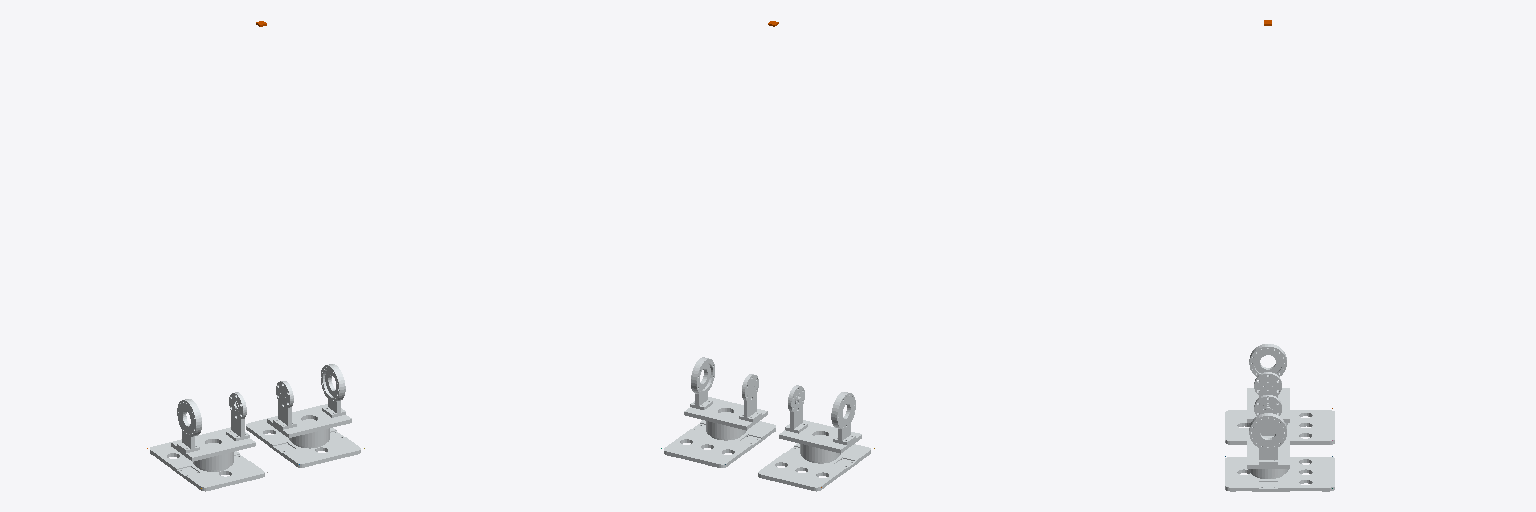
--- Render facts (derived) ---
Views: 3 orthographic renders of the robot side by side, from view 1: azimuth 30°, elevation 25°; view 2: azimuth 150°, elevation 25°; view 3: azimuth 270°, elevation 25°.
Robot: bipedv5_4c — 22 links, 21 joints (8 revolute, 4 prismatic, 9 fixed); root link base_link; default pose: all joints at 0.
Visible links, largest first — view 1: left_ankle_Link, right_ankle_Link; view 2: left_ankle_Link, right_ankle_Link; view 3: right_ankle_Link, left_ankle_Link.
Link boxes in pixels (x1=…): left_ankle_Link: x1=150, y1=392, x2=264, y2=491; right_ankle_Link: x1=246, y1=364, x2=360, y2=467; left_ankle_Link: x1=758, y1=385, x2=870, y2=491; right_ankle_Link: x1=664, y1=357, x2=775, y2=467; right_ankle_Link: x1=1225, y1=395, x2=1334, y2=491; left_ankle_Link: x1=1225, y1=344, x2=1334, y2=444.
Bounding box of the posed robot: 0.35 × 0.206 × 0.8829 m (x, y, z).
Meshes: 13 distinct files referenced, 2 mesh visuals loaded (2 binary STL); not drawn: 11 (reference not matched to a file when rendering).

The robot description file, URDF, robot "bipedv5_4c":
<?xml version="1.0" encoding="utf-8"?>

<robot name="bipedv5_4c" xmlns:xacro="http://www.ros.org/wiki/xacro">


  <link
    name="base_link">
    <inertial>
      <origin
        xyz="2.1238E-08 2.3955E-08 -0.088578"
        rpy="0 0 0" />
      <mass
        value="6.04" />
      <inertia
        ixx="0.011504"
        ixy="1.2206E-11"
        ixz="4.4303E-12"
        iyy="0.026033"
        iyz="-8.6187E-14"
        izz="0.028285" />
    </inertial>
    <visual>
      <!-- <origin rpy="0 0 0" xyz="0.0 0.0 -0.08"/>
        <geometry>
            <box size="0.35 0.15 0.15"/>
        </geometry> -->
      <origin
        xyz="0 0 0"
        rpy="0 0 0" />
      <geometry>
        <mesh
          filename="package://legged_bipedv5_description/meshes/base_link.STL" />
      </geometry>
      <material
        name="">
        <color
          rgba="0.89804 0.91765 0.92941 1" />
      </material>
    </visual>
    <collision>
     <origin rpy="0 0 0" xyz="0.0 0.0 -0.08"/>
      <geometry>
          <box size="0.35 0.15 0.15"/>
      </geometry>
    </collision>
  </link>
  <link
    name="left_yaw_Link">
    <inertial>
      <origin
        xyz="-0.0022679 -6.4337E-09 -0.043526"
        rpy="0 0 0" />
      <mass
        value="1.2202" />
      <inertia
        ixx="0.0010452"
        ixy="-7.8902E-18"
        ixz="3.289E-05"
        iyy="0.0011182"
        iyz="-2.6039E-18"
        izz="0.0010959" />
    </inertial>
    <visual>
      <origin
        xyz="0 0 0"
        rpy="0 0 0" />
      <geometry>
        <mesh
          filename="package://legged_bipedv5_description/meshes/left_yaw_Link.STL" />
      </geometry>
      <material
        name="">
        <color
          rgba="0.89804 0.91765 0.92941 1" />
      </material>
      <!-- <origin rpy="0 0 0" xyz="0 0 -0.007"/>
      <geometry>
          <box size="0.1 0.08 0.03"/>
      </geometry> -->
    </visual>
    <collision>
       <origin rpy="0 0 0" xyz="0 0 -0.007"/>
      <geometry>
          <box size="0.1 0.08 0.03"/>
      </geometry>
    </collision>
  </link>
  <joint
    name="ly"
    type="revolute">
    <origin
      xyz="-0.10249983089623 0 -0.161999985662556"
      rpy="0 0 0" />
    <parent
      link="base_link" />
    <child
      link="left_yaw_Link" />
    <axis
      xyz="0 0 1" />
    <limit
      lower="-10"
      upper="10"
      effort="100"
      velocity="100" />
  </joint>
  <link
    name="left_hip_Link">
    <inertial>
      <origin
        xyz="0.055101 -0.022328 -0.14329"
        rpy="0 0 0" />
      <mass
        value="1.9263" />
      <inertia
        ixx="0.0027475"
        ixy="1.6208E-11"
        ixz="-2.5502E-05"
        iyy="0.0033682"
        iyz="8.3025E-07"
        izz="0.0013004" />
    </inertial>
    <visual>
       <!-- <origin rpy="0 0 0" xyz="0.055 0 -0.076"/>
        <geometry>
            <box size="0.12 0.06 0.206"/>
        </geometry> -->
      <origin
        xyz="0 0 0"
        rpy="0 0 0" />
      <geometry>
        <mesh
          filename="package://legged_bipedv5_description/meshes/left_hip_Link.STL" />
      </geometry>
      <material
        name="">
        <color
          rgba="0.89804 0.91765 0.92941 1" />
      </material>
    </visual>
    <collision>
      <origin rpy="0 0 0" xyz="0.055 0 -0.076"/>
        <geometry>
            <box size="0.12 0.06 0.206"/>
        </geometry>
    </collision>
  </link>
  <joint
    name="lh"
    type="revolute">
    <origin
      xyz="-0.0565000055020701 0 -0.0539999662335701"
      rpy="0 0 0" />
    <parent
      link="left_yaw_Link" />
    <child
      link="left_hip_Link" />
    <axis
      xyz="-1 0 0" />
    <limit
      lower="-10"
      upper="10"
      effort="100"
      velocity="100" />
  </joint>
  <link
    name="left_knee_pri_Link">
    <inertial>
      <origin
        xyz="-0.003862 2.3753E-10 -0.070547"
        rpy="0 0 0" />
      <mass
        value="1.7288" />
      <inertia
        ixx="0.0013015"
        ixy="9.6218E-19"
        ixz="4.5849E-05"
        iyy="0.0013518"
        iyz="-1.1668E-18"
        izz="0.0012686" />
    </inertial>
    <visual>
      <origin
        xyz="0 0 0"
        rpy="0 0 0" />
      <geometry>
        <mesh
          filename="package://legged_bipedv5_description/meshes/left_knee_pri_Link.STL" />
      </geometry>
      <material
        name="">
        <color
          rgba="0.89804 0.91765 0.92941 1" />
      </material>
        <!-- <origin rpy="0 0 0" xyz="0.0 0 -0.01"/>
        <geometry>
            <box size="0.14 0.06 0.04"/>
        </geometry> -->
    </visual>
    <collision>
      <origin rpy="0 0 0" xyz="0.0 0 -0.01"/>
        <geometry>
            <box size="0.14 0.06 0.04"/>
        </geometry>
    </collision>
  </link>
  <joint
    name="lkp"
    type="prismatic">
    <origin
      xyz="0.0564999588174406 0 -0.192000034377183"
      rpy="0 0 0" />
    <parent
      link="left_hip_Link" />
    <child
      link="left_knee_pri_Link" />
    <axis
      xyz="1 0 0" />
    <limit
      lower="-0.15"
      upper="0.15"
      effort="100"
      velocity="100" />
  </joint>
  <link
    name="left_knee_Link">
    <inertial>
      <origin
        xyz="0.055101 -0.022328 -0.14329"
        rpy="0 0 0" />
      <mass
        value="1.9263" />
      <inertia
        ixx="0.0027475"
        ixy="1.6208E-11"
        ixz="-2.5502E-05"
        iyy="0.0033682"
        iyz="8.3025E-07"
        izz="0.0013004" />
    </inertial>
    <visual>
      <origin
        xyz="0 0 0"
        rpy="0 0 0" />
      <geometry>
        <mesh
          filename="package://legged_bipedv5_description/meshes/left_knee_Link.STL" />
      </geometry>
      <material
        name="">
        <color
          rgba="0.89804 0.91765 0.92941 1" />
      </material>
      <!-- <origin rpy="0 0 0" xyz="0.055 0 -0.065"/>
        <geometry>
            <box size="0.12 0.06 0.23"/>
        </geometry> -->
    </visual>
    <collision>
      <origin rpy="0 0 0" xyz="0.055 0 -0.065"/>
        <geometry>
            <box size="0.12 0.06 0.23"/>
        </geometry>
    </collision>
  </link>
  <joint
    name="lk"
    type="revolute">
    <origin
      xyz="-0.0564999588174406 0 -0.082999965622817"
      rpy="0 0 0" />
    <parent
      link="left_knee_pri_Link" />
    <child
      link="left_knee_Link" />
    <axis
      xyz="1 0 0" />
    <limit
      lower="-10"
      upper="10"
      effort="100"
      velocity="100" />
  </joint>
  <link
    name="left_ankle_pri_Link">
    <inertial>
      <origin
        xyz="-0.003862 2.3753E-10 -0.070547"
        rpy="0 0 0" />
      <mass
        value="1.7288" />
      <inertia
        ixx="0.0013015"
        ixy="-5.5659E-19"
        ixz="4.5849E-05"
        iyy="0.0013518"
        iyz="1.5099E-18"
        izz="0.0012686" />
    </inertial>
    <visual>
      <origin
        xyz="0 0 0"
        rpy="0 0 0" />
      <geometry>
        <mesh
          filename="package://legged_bipedv5_description/meshes/left_ankle_pri_Link.STL" />
      </geometry>
      <material
        name="">
        <color
          rgba="0.89804 0.91765 0.92941 1" />
      </material>
        <!-- <origin rpy="0 0 0" xyz="0.0 0 -0.06"/>
        <geometry>
            <box size="0.14 0.06 0.14"/>
        </geometry> -->
    </visual>
    <collision>
      <origin rpy="0 0 0" xyz="0.0 0 -0.06"/>
        <geometry>
            <box size="0.14 0.06 0.14"/>
        </geometry>
    </collision>
  </link>
  <joint
    name="lap"
    type="prismatic">
    <origin
      xyz="0.0564999588174406 0 -0.192000034377183"
      rpy="0 0 0" />
    <parent
      link="left_knee_Link" />
    <child
      link="left_ankle_pri_Link" />
    <axis
      xyz="1 0 0" />
    <limit
      lower="-0.15"
      upper="0.15"
      effort="100"
      velocity="100" />
  </joint>
  <link
    name="left_ankle_Link">
    <inertial>
      <origin
        xyz="0.054123 0.015256 -0.051677"
        rpy="0 0 0" />
      <mass
        value="0.72668" />
      <inertia
        ixx="0.0020048"
        ixy="-2.246E-18"
        ixz="-7.9275E-07"
        iyy="0.00089396"
        iyz="-9.1373E-07"
        izz="0.0027066" />
    </inertial>
    <visual>
      <origin
        xyz="0 0 0"
        rpy="0 0 0" />
      <geometry>
        <mesh
          filename="package://legged_bipedv5_description/meshes/left_ankle_Link.STL" />
      </geometry>
      <material
        name="">
        <color
          rgba="0.89804 0.91765 0.92941 1" />
      </material>
      <!-- <origin rpy="0 0 0" xyz="0.055 0.02 -0.106"/>
        <geometry>
            <box size="0.14 0.22 0.01"/>
        </geometry> -->
    </visual>
    <collision>
     <origin rpy="0 0 0" xyz="0.055 0.02 -0.106"/>
        <geometry>
            <box size="0.14 0.22 0.01"/>
        </geometry>
    </collision>
  </link>
  <joint
    name="la"
    type="revolute">
    <origin
      xyz="-0.0565000033098504 0 -0.0830000104027589"
      rpy="0 0 0" />
    <parent
      link="left_ankle_pri_Link" />
    <child
      link="left_ankle_Link" />
    <axis
      xyz="1 0 0" />
    <limit
      lower="-10"
      upper="10"
      effort="100"
      velocity="100" />
  </joint>

  <link
    name="right_yaw_Link">
    <inertial>
      <origin
        xyz="0.0022679 -6.4337E-09 -0.043526"
        rpy="0 0 0" />
      <mass
        value="1.2202" />
      <inertia
        ixx="0.0010452"
        ixy="-2.0231E-18"
        ixz="-3.289E-05"
        iyy="0.0011182"
        iyz="6.9424E-19"
        izz="0.0010959" />
    </inertial>
    <visual>
     <!-- <origin rpy="0 0 0" xyz="0 0 -0.007"/>
      <geometry>
          <box size="0.1 0.08 0.03"/>
      </geometry> -->
      <origin
        xyz="0 0 0"
        rpy="0 0 0" />
      <geometry>
        <mesh
          filename="package://legged_bipedv5_description/meshes/right_yaw_Link.STL" />
      </geometry>
      <material
        name="">
        <color
          rgba="0.89804 0.91765 0.92941 1" />
      </material>
    </visual>
    <collision>
     <origin rpy="0 0 0" xyz="0 0 -0.007"/>
      <geometry>
          <box size="0.1 0.08 0.03"/>
      </geometry>
    </collision>
  </link>
  <joint
    name="ry"
    type="revolute">
    <origin
      xyz="0.10249993812728 0 -0.161999985662556"
      rpy="0 0 0" />
    <parent
      link="base_link" />
    <child
      link="right_yaw_Link" />
    <axis
      xyz="0 0 -1" />
    <limit
      lower="-10"
      upper="10"
      effort="100"
      velocity="100" />
  </joint>
  <link
    name="right_hip_Link">
    <inertial>
      <origin
        xyz="-0.055101 -0.022328 -0.14329"
        rpy="0 0 0" />
      <mass
        value="1.9263" />
      <inertia
        ixx="0.0027475"
        ixy="1.9779E-11"
        ixz="2.5502E-05"
        iyy="0.0033682"
        iyz="8.3026E-07"
        izz="0.0013004" />
    </inertial>
    <visual>
      <origin
        xyz="0 0 0"
        rpy="0 0 0" />
      <geometry>
        <mesh
          filename="package://legged_bipedv5_description/meshes/right_hip_Link.STL" />
      </geometry>
      <material
        name="">
        <color
          rgba="0.89804 0.91765 0.92941 1" />
      </material>
      <!-- <origin rpy="0 0 0" xyz="-0.055 0 -0.078"/>
        <geometry>
            <box size="0.12 0.06 0.21"/>
        </geometry> -->
    </visual>
    <collision>
      <origin rpy="0 0 0" xyz="-0.055 0 -0.078"/>
        <geometry>
            <box size="0.12 0.06 0.21"/>
        </geometry>
    </collision>
  </link>
  <joint
    name="rh"
    type="revolute">
    <origin
      xyz="0.0565000055020701 0 -0.0539999662335701"
      rpy="0 0 0" />
    <parent
      link="right_yaw_Link" />
    <child
      link="right_hip_Link" />
    <axis
      xyz="-1 0 0" />
    <limit
      lower="-10"
      upper="10"
      effort="100"
      velocity="100" />
  </joint>
  <link
    name="right_knee_pri_Link">
    <inertial>
      <origin
        xyz="0.003862 2.3753E-10 -0.070547"
        rpy="0 0 0" />
      <mass
        value="1.7288" />
      <inertia
        ixx="0.0013015"
        ixy="6.3708E-19"
        ixz="-4.5849E-05"
        iyy="0.0013518"
        iyz="2.0769E-18"
        izz="0.0012686" />
    </inertial>
    <visual>
      <origin
        xyz="0 0 0"
        rpy="0 0 0" />
      <geometry>
        <mesh
          filename="package://legged_bipedv5_description/meshes/right_knee_pri_Link.STL" />
      </geometry>
      <material
        name="">
        <color
          rgba="0.89804 0.91765 0.92941 1" />
      </material>
      <!-- <origin rpy="0 0 0" xyz="0.0 0 -0.043"/>
        <geometry>
            <box size="0.14 0.06 0.1"/>
        </geometry> -->
    </visual>
    <collision>
     <origin rpy="0 0 0" xyz="0.0 0 -0.043"/>
        <geometry>
            <box size="0.14 0.06 0.1"/>
        </geometry>
    </collision>
  </link>
  <joint
    name="rkp"
    type="prismatic">
    <origin
      xyz="-0.0565 0 -0.192"
      rpy="0 0 0" />
    <parent
      link="right_hip_Link" />
    <child
      link="right_knee_pri_Link" />
    <axis
      xyz="1 0 0" />
    <limit
      lower="-0.1"
      upper="0.1"
      effort="100"
      velocity="100" />
  </joint>
  <link
    name="right_knee_Link">
    <inertial>
      <origin
        xyz="-0.055101 -0.022328 -0.14329"
        rpy="0 0 0" />
      <mass
        value="1.9263" />
      <inertia
        ixx="0.0027475"
        ixy="1.9779E-11"
        ixz="2.5502E-05"
        iyy="0.0033682"
        iyz="8.3026E-07"
        izz="0.0013004" />
    </inertial>
    <visual>
      <origin
        xyz="0 0 0"
        rpy="0 0 0" />
      <geometry>
        <mesh
          filename="package://legged_bipedv5_description/meshes/right_knee_Link.STL" />
      </geometry>
      <material
        name="">
        <color
          rgba="0.89804 0.91765 0.92941 1" />
      </material>
       <!-- <origin rpy="0 0 0" xyz="-0.055 0 -0.097"/>
        <geometry>
            <box size="0.12 0.06 0.17"/>
        </geometry> -->
    </visual>
    <collision>
      <origin rpy="0 0 0" xyz="-0.055 0 -0.097"/>
        <geometry>
            <box size="0.12 0.06 0.17"/>
        </geometry>
    </collision>
  </link>
  <joint
    name="rk"
    type="revolute">
    <origin
      xyz="0.0564999588174397 0 -0.0829999656228171"
      rpy="0 0 0" />
    <parent
      link="right_knee_pri_Link" />
    <child
      link="right_knee_Link" />
    <axis
      xyz="1 0 0" />
    <limit
      lower="-10"
      upper="10"
      effort="100"
      velocity="100" />
  </joint>
  <link
    name="right_ankle_pri_Link">
    <inertial>
      <origin
        xyz="0.003862 2.3753E-10 -0.070547"
        rpy="0 0 0" />
      <mass
        value="1.7288" />
      <inertia
        ixx="0.0013015"
        ixy="5.2116E-19"
        ixz="-4.5849E-05"
        iyy="0.0013518"
        iyz="2.0394E-18"
        izz="0.0012686" />
    </inertial>
    <visual>
      <origin
        xyz="0 0 0"
        rpy="0 0 0" />
      <geometry>
        <mesh
          filename="package://legged_bipedv5_description/meshes/right_ankle_pri_Link.STL" />
      </geometry>
      <material
        name="">
        <color
          rgba="0.89804 0.91765 0.92941 1" />
      </material>
       <!-- <origin rpy="0 0 0" xyz="0.0 0 -0.06"/>
        <geometry>
            <box size="0.14 0.06 0.14"/>
        </geometry> -->
    </visual>
    <collision>
     <origin rpy="0 0 0" xyz="0.0 0 -0.06"/>
        <geometry>
            <box size="0.14 0.06 0.14"/>
        </geometry>
    </collision>
  </link>
  <joint
    name="rap"
    type="prismatic">
    <origin
      xyz="-0.0564999588174397 0 -0.192000034377183"
      rpy="0 0 0" />
    <parent
      link="right_knee_Link" />
    <child
      link="right_ankle_pri_Link" />
    <axis
      xyz="1 0 0" />
    <limit
      lower="-0.1"
      upper="0.1"
      effort="100"
      velocity="100" />
  </joint>
  <link
    name="right_ankle_Link">
    <inertial>
      <origin
        xyz="-0.054123 0.015256 -0.051677"
        rpy="0 0 0" />
      <mass
        value="0.72668" />
      <inertia
        ixx="0.0020048"
        ixy="1.7327E-17"
        ixz="7.9275E-07"
        iyy="0.00089396"
        iyz="-9.1373E-07"
        izz="0.0027066" />
    </inertial>
    <visual>
       <!-- <origin rpy="0 0 0" xyz="-0.055 0.02 -0.106"/>
        <geometry>
            <box size="0.14 0.22 0.01"/>
        </geometry> -->
      <origin
        xyz="0 0 0"
        rpy="0 0 0" />
      <geometry>
        <mesh
          filename="package://legged_bipedv5_description/meshes/right_ankle_Link.STL" />
      </geometry>
      <material
        name="">
        <color
          rgba="0.89804 0.91765 0.92941 1" />
      </material>
    </visual>
    <collision>
      <origin rpy="0 0 0" xyz="-0.055 0.02 -0.106"/>
        <geometry>
            <box size="0.14 0.22 0.01"/>
        </geometry>
    </collision>
  </link>
  <joint
    name="ra"
    type="revolute">
    <origin
      xyz="0.0565000033098499 0 -0.083000010402759"
      rpy="0 0 0" />
    <parent
      link="right_ankle_pri_Link" />
    <child
      link="right_ankle_Link" />
    <axis
      xyz="1 0 0" />
    <limit
      lower="-10"
      upper="10"
      effort="100"
      velocity="100" />
  </joint>

  
  <joint name="la_fixed_1" type="fixed">
    <origin xyz="-0.015 0.12 -0.106" rpy="0 0 0" />  
    <parent link="left_ankle_Link" />
    <child link="left_LF_Link" />
  </joint>
  <link name="left_LF_Link">
    <inertial>
      <mass value="0.01" />
      <inertia ixx="0.000001" ixy="0" ixz="0" iyy="0.000001" iyz="0" izz="0.000001" />
    </inertial>
    <visual>
      <origin rpy="0 0 0" xyz="0 0 0"/>
      <geometry>
        <sphere radius="0.001"/>
      </geometry>
    </visual>
    <collision>
      <origin rpy="0 0 0" xyz="0 0 0"/>
      <geometry>
        <sphere radius="0.001"/>
      </geometry>
    </collision>
  </link>

    <joint name="la_fixed_2" type="fixed">
    <origin xyz="0.125 0.12 -0.106" rpy="0 0 0" />
    <parent link="left_ankle_Link" />
    <child link="left_RF_Link" />
  </joint>
  <link name="left_RF_Link">
    <inertial>
      <mass value="0.01" />
      <inertia ixx="0.000001" ixy="0" ixz="0" iyy="0.000001" iyz="0" izz="0.000001" />
    </inertial>
    <visual>
      <origin rpy="0 0 0" xyz="0 0 0"/>
      <geometry>
        <sphere radius="0.001"/>
      </geometry>
    </visual>
    <collision>
      <origin rpy="0 0 0" xyz="0 0 0"/>
      <geometry>
        <sphere radius="0.001"/>
      </geometry>
    </collision>
  </link>

   <joint name="la_fixed_3" type="fixed">
    <origin xyz="0.125 -0.08 -0.106" rpy="0 0 0" />
    <parent link="left_ankle_Link" />
    <child link="left_RB_Link" />
  </joint>
  <link name="left_RB_Link">
    <inertial>
      <mass value="0.01" />
      <inertia ixx="0.000001" ixy="0" ixz="0" iyy="0.000001" iyz="0" izz="0.000001" />
    </inertial>
    <visual>
      <origin rpy="0 0 0" xyz="0 0 0"/>
      <geometry>
        <sphere radius="0.001"/>
      </geometry>
    </visual>
    <collision>
      <origin rpy="0 0 0" xyz="0 0 0"/>
      <geometry>
        <sphere radius="0.001"/>
      </geometry>
    </collision>
  </link>

  <joint name="la_fixed_4" type="fixed">
    <origin xyz="-0.015 -0.08 -0.106" rpy="0 0 0" />
    <parent link="left_ankle_Link" />
    <child link="left_LB_Link" />
  </joint>
  <link name="left_LB_Link">
    <inertial>
      <mass value="0.01" />
      <inertia ixx="0.000001" ixy="0" ixz="0" iyy="0.000001" iyz="0" izz="0.000001" />
    </inertial>
    <visual>
      <origin rpy="0 0 0" xyz="0 0 0"/>
      <geometry>
        <sphere radius="0.001"/>
      </geometry>
    </visual>
    <collision>
      <origin rpy="0 0 0" xyz="0 0 0"/>
      <geometry>
        <sphere radius="0.001"/>
      </geometry>
    </collision>
  </link>


    <joint name="ra_fixed_1" type="fixed">
    <origin xyz="-0.125 0.12 -0.106" rpy="0 0 0" />
    <parent link="right_ankle_Link" />
    <child link="right_LF_Link" />
  </joint>
  <link name="right_LF_Link">
    <inertial>
      <mass value="0.01" />
      <inertia ixx="0.000001" ixy="0" ixz="0" iyy="0.000001" iyz="0" izz="0.000001" />
    </inertial>
    <visual>
      <origin rpy="0 0 0" xyz="0 0 0"/>
      <geometry>
        <sphere radius="0.001"/>
      </geometry>
    </visual>
    <collision>
      <origin rpy="0 0 0" xyz="0 0 0"/>
      <geometry>
        <sphere radius="0.001"/>
      </geometry>
    </collision>
  </link>

    <joint name="ra_fixed_2" type="fixed">
    <origin xyz="0.015 0.12 -0.106" rpy="0 0 0" />
    <parent link="right_ankle_Link" />
    <child link="right_RF_Link" />
  </joint>
  <link name="right_RF_Link">
    <inertial>
      <mass value="0.01" />
      <inertia ixx="0.000001" ixy="0" ixz="0" iyy="0.000001" iyz="0" izz="0.000001" />
    </inertial>
    <visual>
      <origin rpy="0 0 0" xyz="0 0 0"/>
      <geometry>
        <sphere radius="0.001"/>
      </geometry>
    </visual>
    <collision>
      <origin rpy="0 0 0" xyz="0 0 0"/>
      <geometry>
        <sphere radius="0.001"/>
      </geometry>
    </collision>
  </link>

 <joint name="ra_fixed_3" type="fixed">
    <origin xyz="0.015 -0.08 -0.106" rpy="0 0 0" />
    <parent link="right_ankle_Link" />
    <child link="right_RB_Link" />
  </joint>
  <link name="right_RB_Link">
    <inertial>
      <mass value="0.01" />
      <inertia ixx="0.000001" ixy="0" ixz="0" iyy="0.000001" iyz="0" izz="0.000001" />
    </inertial>
    <visual>
      <origin rpy="0 0 0" xyz="0 0 0"/>
      <geometry>
        <sphere radius="0.001"/>
      </geometry>
    </visual>
    <collision>
      <origin rpy="0 0 0" xyz="0 0 0"/>
      <geometry>
        <sphere radius="0.001"/>
      </geometry>
    </collision>
  </link>

 <joint name="ra_fixed_4" type="fixed">
    <origin xyz="-0.125 -0.08 -0.106" rpy="0 0 0" />
    <parent link="right_ankle_Link" />
    <child link="right_LB_Link" />
  </joint>
  <link name="right_LB_Link">
    <inertial>
      <mass value="0.01" />
      <inertia ixx="0.000001" ixy="0" ixz="0" iyy="0.000001" iyz="0" izz="0.000001" />
    </inertial>
    <visual>
      <origin rpy="0 0 0" xyz="0 0 0"/>
      <geometry>
        <sphere radius="0.001"/>
      </geometry>
    </visual>
    <collision>
      <origin rpy="0 0 0" xyz="0 0 0"/>
      <geometry>
        <sphere radius="0.001"/>
      </geometry>
    </collision>
  </link>

  

    <gazebo>
     <plugin name="gazebo_ros_control" filename="liblegged_bipedal_hw_sim.so">
      <robotNamespace>/</robotNamespace>
      <robotParam>legged_robot_description</robotParam>
      <robotSimType>legged_gazebo/LeggedHWSim</robotSimType>
    </plugin>
  </gazebo>

  <gazebo>
    <plugin filename="libgazebo_ros_p3d.so" name="p3d_base_controller">
      <alwaysOn>true</alwaysOn>
      <updateRate>1000.0</updateRate>
      <bodyName>base_link</bodyName>
      <topicName>ground_truth/state</topicName>
      <gaussianNoise>0</gaussianNoise>
      <frameName>world</frameName>
      <xyzOffsets>0 0 0</xyzOffsets>
      <rpyOffsets>0 0 0</rpyOffsets>
    </plugin>
  </gazebo>
  
    <!-- Imu is fixed to the base link -->
  <joint name="imu_joint" type="fixed">
    <origin rpy="0. 0. 0." xyz="0. 0. 0"/>
    <parent link="base_link"/>
    <child link="imu_link"/>
  </joint>
  <!-- Imu link -->
  <link name="imu_link">
    <inertial>
      <mass value="0.01"/>
      <origin rpy="0 0 0" xyz="0 0 0"/>
      <inertia ixx="0.000001" ixy="0" ixz="0" iyy="0.000001" iyz="0" izz="0.000001"/>
    </inertial>
    <visual>
      <origin rpy="0 0 0" xyz="0 0 0"/>
      <geometry>
        <box size="0.015 0.015 0.004"/>
      </geometry>
    </visual>
    <material name="orange">
      <color rgba="255 108 10 255"/>
    </material>
  </link>

  <gazebo reference="imu_joint">
    <disableFixedJointLumping>true</disableFixedJointLumping>
  </gazebo>

    <gazebo reference="left_ankle_Link">
    <mu1>1.5</mu1>
    <mu2>1.5</mu2>
    <self_collide>0</self_collide>
    <kp value="1000000.0"/>
    <kd value="100.0"/>
    <maxVel>1.0</maxVel>
    <minDepth>0.00</minDepth>
  </gazebo>

  <gazebo reference="right_ankle_Link">
    <mu1>1.5</mu1>
    <mu2>1.5</mu2>
    <self_collide>0</self_collide>
    <kp value="1000000.0"/>
    <kd value="100.0"/>
    <maxVel>1.0</maxVel>
    <minDepth>0.00</minDepth>
  </gazebo>

   <gazebo reference="right_LF_Link">
    <mu1>1.5</mu1>
    <mu2>1.5</mu2>
    <self_collide>1</self_collide>
    <kp value="1000000.0"/>
    <kd value="100.0"/>
    <maxVel>1.0</maxVel>
    <minDepth>0.00</minDepth>
  </gazebo>

  <gazebo reference="right_RF_Link">
    <mu1>1.5</mu1>
    <mu2>1.5</mu2>
    <self_collide>1</self_collide>
    <kp value="1000000.0"/>
    <kd value="100.0"/>
    <maxVel>1.0</maxVel>
    <minDepth>0.00</minDepth>
  </gazebo>

   <gazebo reference="right_LB_Link">
    <mu1>1.5</mu1>
    <mu2>1.5</mu2>
    <self_collide>1</self_collide>
    <kp value="1000000.0"/>
    <kd value="100.0"/>
    <maxVel>1.0</maxVel>
    <minDepth>0.00</minDepth>
  </gazebo>

  <gazebo reference="right_RB_Link">
    <mu1>1.5</mu1>
    <mu2>1.5</mu2>
    <self_collide>1</self_collide>
    <kp value="1000000.0"/>
    <kd value="100.0"/>
    <maxVel>1.0</maxVel>
    <minDepth>0.00</minDepth>
  </gazebo>

   <gazebo reference="left_LF_Link">
    <mu1>1.5</mu1>
    <mu2>1.5</mu2>
    <self_collide>1</self_collide>
    <kp value="1000000.0"/>
    <kd value="100.0"/>
    <maxVel>1.0</maxVel>
    <minDepth>0.00</minDepth>
  </gazebo>

  <gazebo reference="left_RF_Link">
    <mu1>1.5</mu1>
    <mu2>1.5</mu2>
    <self_collide>1</self_collide>
    <kp value="1000000.0"/>
    <kd value="100.0"/>
    <maxVel>1.0</maxVel>
    <minDepth>0.00</minDepth>
  </gazebo>

  <gazebo reference="left_LB_Link">
    <mu1>1.5</mu1>
    <mu2>1.5</mu2>
    <self_collide>1</self_collide>
    <kp value="1000000.0"/>
    <kd value="100.0"/>
    <maxVel>1.0</maxVel>
    <minDepth>0.00</minDepth>
  </gazebo>

  <gazebo reference="left_RB_Link">
    <mu1>1.5</mu1>
    <mu2>1.5</mu2>
    <self_collide>1</self_collide>
    <kp value="1000000.0"/>
    <kd value="100.0"/>
    <maxVel>1.0</maxVel>
    <minDepth>0.00</minDepth>
  </gazebo>

  <transmission name="ly_tran">
      <type>transmission_interface/SimpleTransmission</type>
      <joint name="ly">
          <hardwareInterface>hardware_interface/EffortJointInterface</hardwareInterface>
      </joint>
      <actuator name="ly_joint_motor">
          <hardwareInterface>hardware_interface/EffortJointInterface</hardwareInterface>
          <mechanicalReduction>1</mechanicalReduction>
      </actuator>
  </transmission>

  <transmission name="lh_tran">
      <type>transmission_interface/SimpleTransmission</type>
      <joint name="lh">
          <hardwareInterface>hardware_interface/EffortJointInterface</hardwareInterface>
      </joint>
      <actuator name="lh_joint_motor">
          <hardwareInterface>hardware_interface/EffortJointInterface</hardwareInterface>
          <mechanicalReduction>1</mechanicalReduction>
      </actuator>
  </transmission>

  <transmission name="lkp_tran">
      <type>transmission_interface/SimpleTransmission</type>
      <joint name="lkp">
          <hardwareInterface>hardware_interface/EffortJointInterface</hardwareInterface>
      </joint>
      <actuator name="lkp_joint_motor">
          <hardwareInterface>hardware_interface/EffortJointInterface</hardwareInterface>
          <mechanicalReduction>1</mechanicalReduction>
      </actuator>
  </transmission>

  <transmission name="lk_tran">
      <type>transmission_interface/SimpleTransmission</type>
      <joint name="lk">
          <hardwareInterface>hardware_interface/EffortJointInterface</hardwareInterface>
      </joint>
      <actuator name="lk_joint_motor">
          <hardwareInterface>hardware_interface/EffortJointInterface</hardwareInterface>
          <mechanicalReduction>1</mechanicalReduction>
      </actuator>
  </transmission>

   <transmission name="lap_tran">
      <type>transmission_interface/SimpleTransmission</type>
      <joint name="lap">
          <hardwareInterface>hardware_interface/EffortJointInterface</hardwareInterface>
      </joint>
      <actuator name="lap_joint_motor">
          <hardwareInterface>hardware_interface/EffortJointInterface</hardwareInterface>
          <mechanicalReduction>1</mechanicalReduction>
      </actuator>
  </transmission>

   <transmission name="la_tran">
      <type>transmission_interface/SimpleTransmission</type>
      <joint name="la">
          <hardwareInterface>hardware_interface/EffortJointInterface</hardwareInterface>
      </joint>
      <actuator name="la_joint_motor">
          <hardwareInterface>hardware_interface/EffortJointInterface</hardwareInterface>
          <mechanicalReduction>1</mechanicalReduction>
      </actuator>
  </transmission>
  

  <transmission name="ry_tran">
      <type>transmission_interface/SimpleTransmission</type>
      <joint name="ry">
          <hardwareInterface>hardware_interface/EffortJointInterface</hardwareInterface>
      </joint>
      <actuator name="ry_joint_motor">
          <hardwareInterface>hardware_interface/EffortJointInterface</hardwareInterface>
          <mechanicalReduction>1</mechanicalReduction>
      </actuator>
  </transmission>

  <transmission name="rh_tran">
      <type>transmission_interface/SimpleTransmission</type>
      <joint name="rh">
          <hardwareInterface>hardware_interface/EffortJointInterface</hardwareInterface>
      </joint>
      <actuator name="rh_joint_motor">
          <hardwareInterface>hardware_interface/EffortJointInterface</hardwareInterface>
          <mechanicalReduction>1</mechanicalReduction>
      </actuator>
  </transmission>

  <transmission name="rkp_tran">
      <type>transmission_interface/SimpleTransmission</type>
      <joint name="rkp">
          <hardwareInterface>hardware_interface/EffortJointInterface</hardwareInterface>
      </joint>
      <actuator name="rkp_joint_motor">
          <hardwareInterface>hardware_interface/EffortJointInterface</hardwareInterface>
          <mechanicalReduction>1</mechanicalReduction>
      </actuator>
  </transmission>

  <transmission name="rk_tran">
      <type>transmission_interface/SimpleTransmission</type>
      <joint name="rk">
          <hardwareInterface>hardware_interface/EffortJointInterface</hardwareInterface>
      </joint>
      <actuator name="rk_joint_motor">
          <hardwareInterface>hardware_interface/EffortJointInterface</hardwareInterface>
          <mechanicalReduction>1</mechanicalReduction>
      </actuator>
  </transmission>

  <transmission name="rap_tran">
      <type>transmission_interface/SimpleTransmission</type>
      <joint name="rap">
          <hardwareInterface>hardware_interface/EffortJointInterface</hardwareInterface>
      </joint>
      <actuator name="rap_joint_motor">
          <hardwareInterface>hardware_interface/EffortJointInterface</hardwareInterface>
          <mechanicalReduction>1</mechanicalReduction>
      </actuator>
  </transmission>

   <transmission name="ra_tran">
      <type>transmission_interface/SimpleTransmission</type>
      <joint name="ra">
          <hardwareInterface>hardware_interface/EffortJointInterface</hardwareInterface>
      </joint>
      <actuator name="ra_joint_motor">
          <hardwareInterface>hardware_interface/EffortJointInterface</hardwareInterface>
          <mechanicalReduction>1</mechanicalReduction>
      </actuator>
  </transmission>

</robot>
